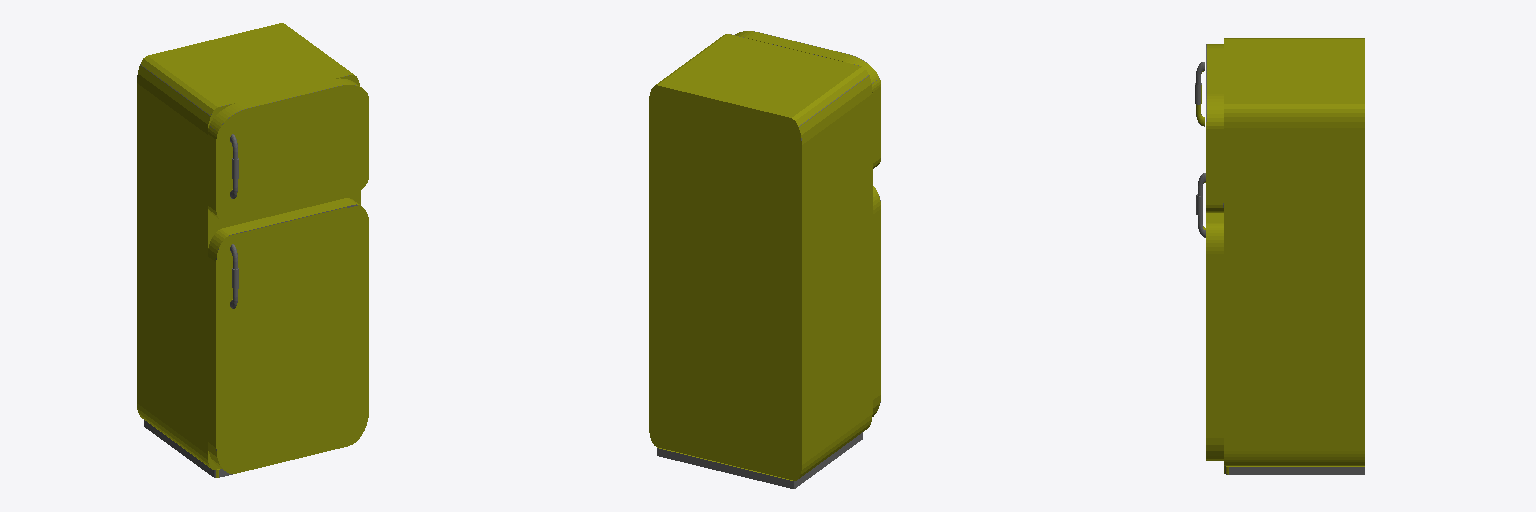
3 renders of one model, left to right at view 1: azimuth 30°, elevation 25°; view 2: azimuth 150°, elevation 25°; view 3: azimuth 270°, elevation 25°, orthographic.
Visible parts, largest first — view 1: Cube.007_Cube.006; view 2: Cube.007_Cube.006; view 3: Cube.007_Cube.006.
Boxes of the visible parts, x1=… form: Cube.007_Cube.006: x1=137, y1=23, x2=368, y2=477; Cube.007_Cube.006: x1=649, y1=31, x2=880, y2=488; Cube.007_Cube.006: x1=1195, y1=38, x2=1364, y2=474.
Size of the model in its own units: 6.69 by 15.49 by 6.46.
1 materials, 1 textured.